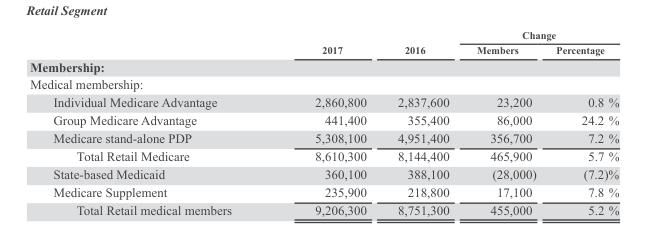table: (29, 28, 618, 217)
table column: (29, 28, 272, 217), (272, 28, 381, 217), (462, 28, 545, 217), (381, 28, 462, 217), (545, 28, 618, 217)
table column header: (29, 28, 618, 57)
table projected row header: (29, 74, 618, 92), (29, 57, 618, 74)
table row: (29, 74, 618, 92), (29, 92, 618, 110), (29, 110, 618, 128), (29, 128, 618, 146), (29, 146, 618, 164), (29, 164, 618, 182), (29, 182, 618, 200), (29, 57, 618, 74), (29, 200, 618, 217), (29, 42, 618, 57), (29, 28, 618, 42)
table spanning cell: (272, 28, 381, 57), (381, 28, 462, 57), (462, 28, 618, 42)
